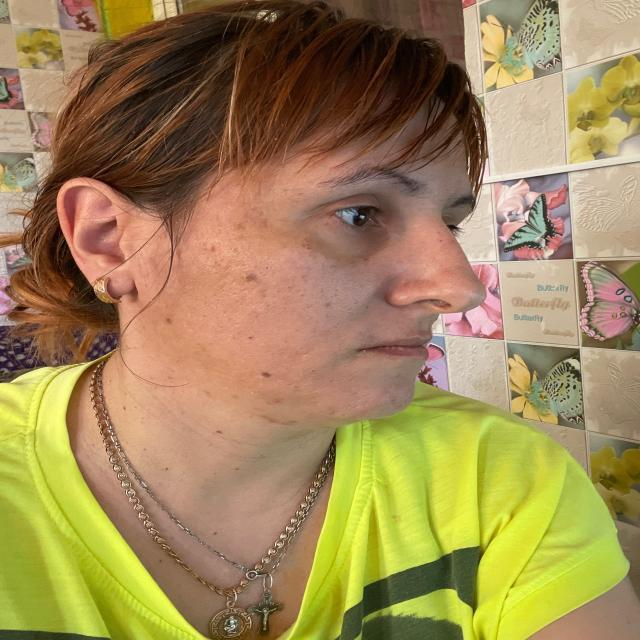acne: (396, 278, 440, 289), (204, 242, 220, 256), (320, 300, 334, 310), (388, 395, 400, 405), (440, 268, 454, 276)
dark circle: (300, 226, 392, 264)
pores: (306, 270, 374, 316), (194, 242, 285, 276), (221, 284, 279, 316)
